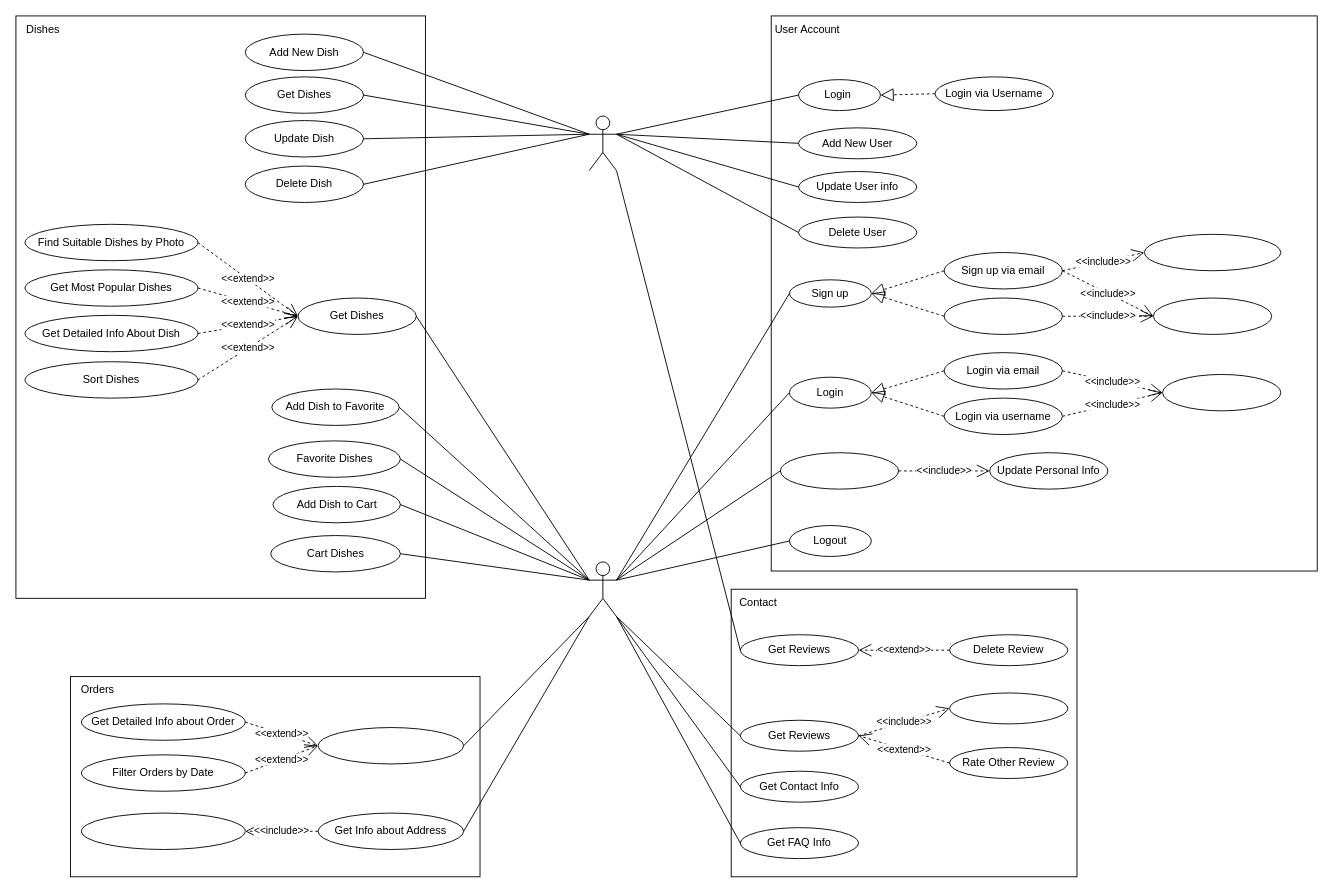
The diagram is 1333 pixels wide and 893 high, and some of its shapes have lost their labels. Each missing label, with the box of its shape:
Admin: (588, 115, 617, 171)
Check Login Token: (1162, 374, 1281, 411)
Get Info about All Orders: (317, 727, 464, 764)
Get Personal Info: (779, 452, 899, 489)
Save Token: (1153, 297, 1272, 334)
Send Feedback: (949, 692, 1068, 724)
Send Verification Code: (1143, 233, 1281, 271)
Sign up via username: (943, 297, 1062, 334)
Update Info about Address: (81, 812, 245, 849)
User: (588, 561, 617, 617)
